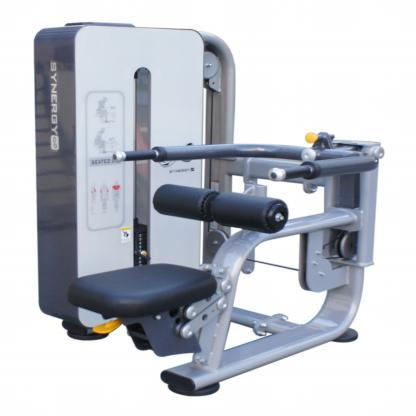seated dip machine: (31, 20, 385, 399)
